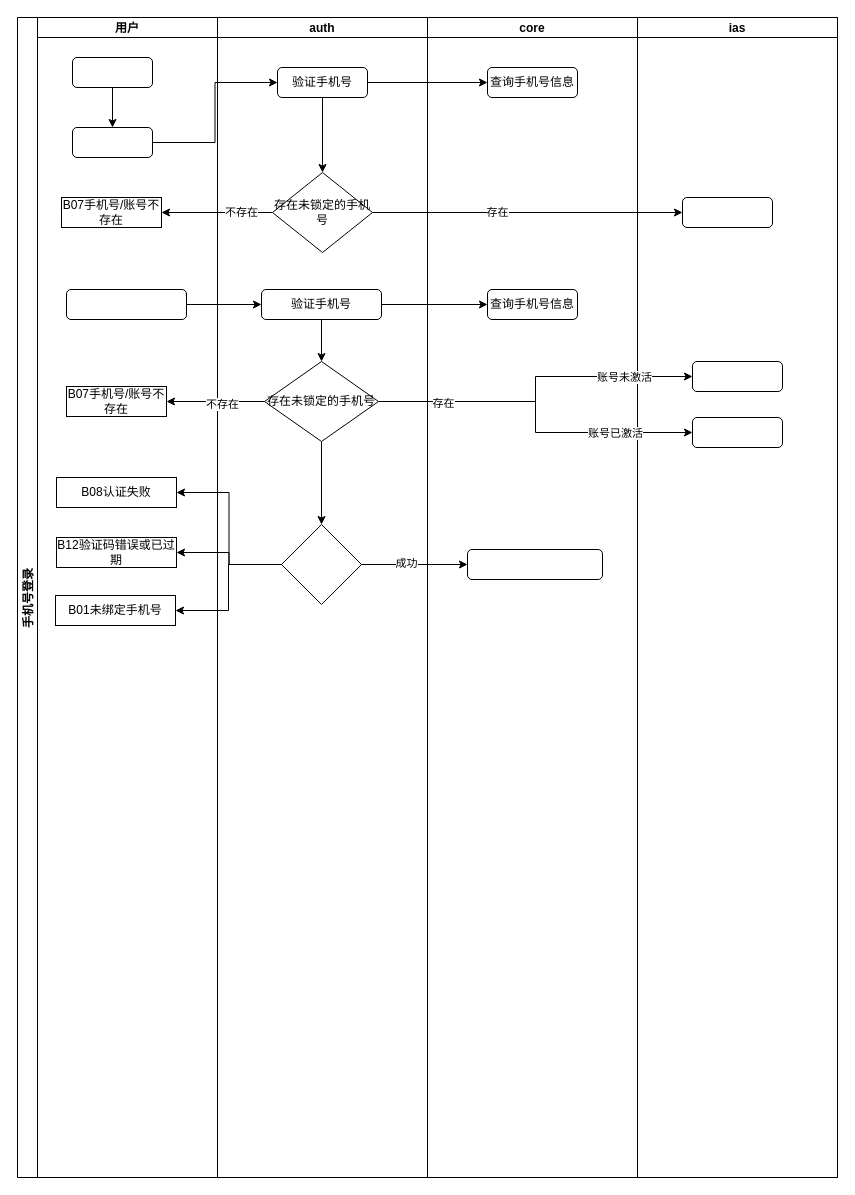
Image size: 855x1195. Some labels were removed from this diagram. The centre of each missing label's shape, as x and y in pixels:
检查ias状态: point 321,564
注册新账号: point 737,376
获取验证码: point 112,142
触发发送短信: point 727,212
输入手机号: point 112,72
输入验证码登录: point 126,304
通过手机获取用户信息: point 534,564
验证短信码: point 737,432
